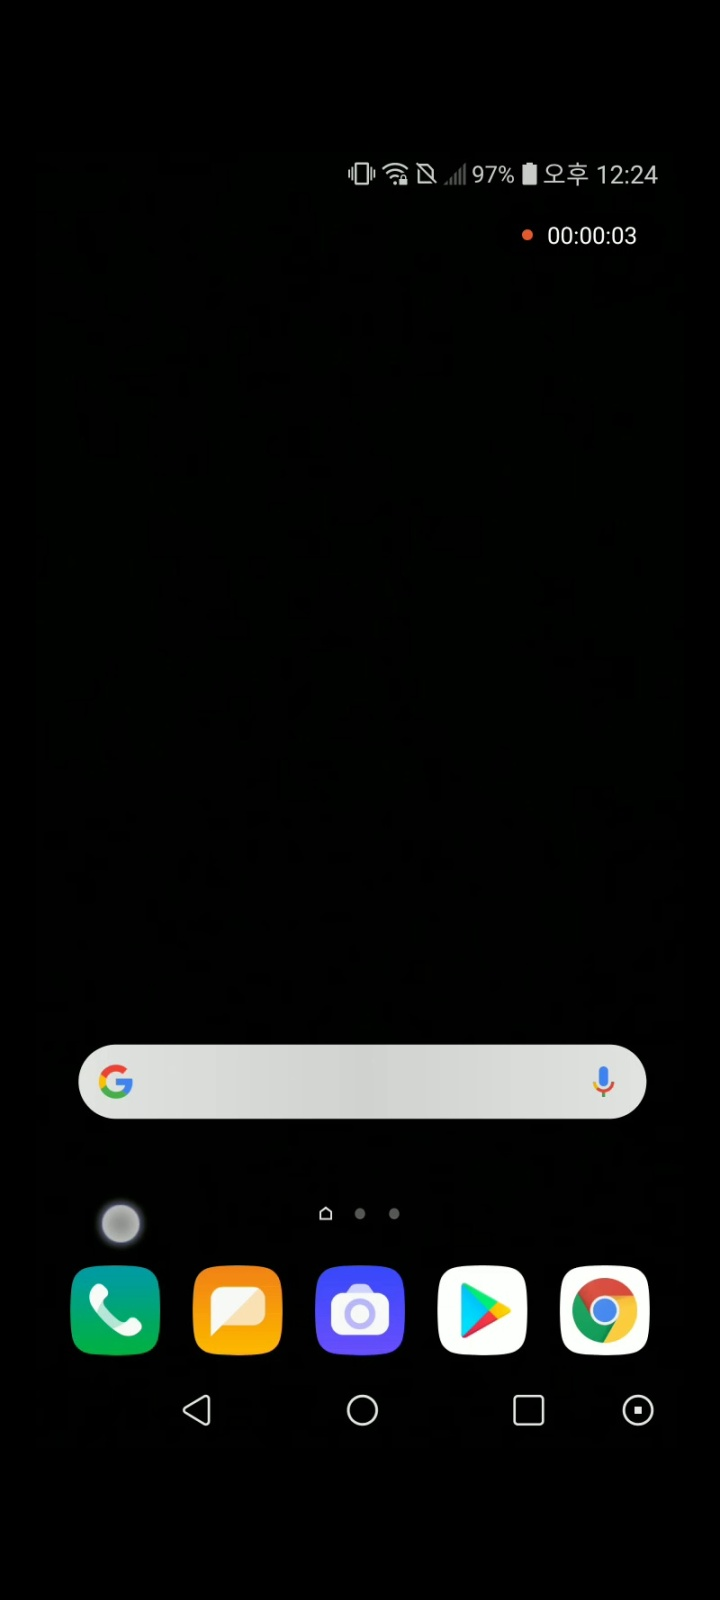Cursor: (99, 1202, 144, 1247)
